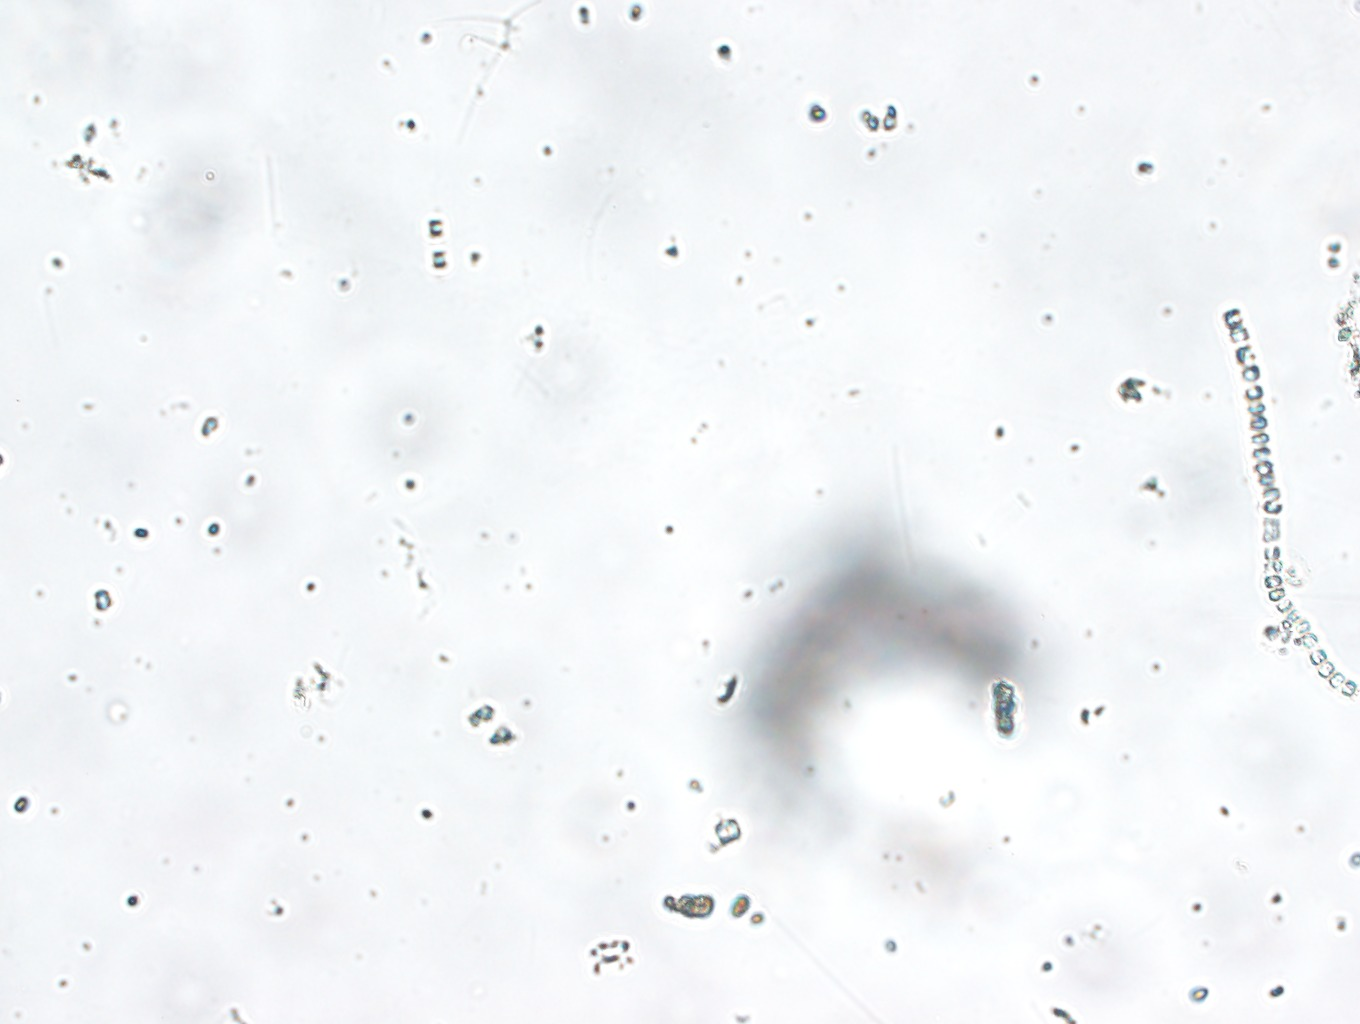skeletonema: (1205, 303, 1358, 703)
